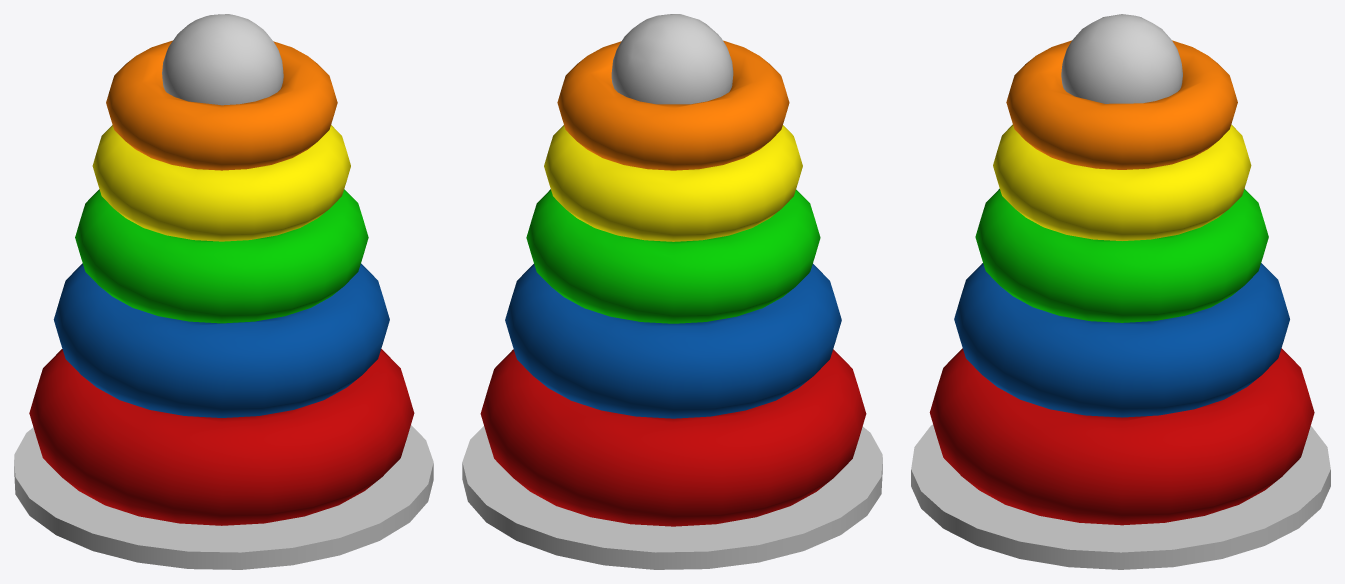
The picture shows the model from 3 angles, left to right: view 1: azimuth 30°, elevation 25°; view 2: azimuth 150°, elevation 25°; view 3: azimuth 270°, elevation 25°; orthographic projection.
Parts seen in each view (by area): view 1: pyramid; view 2: pyramid; view 3: pyramid.
Boxes of the visible parts, x1,y1,x2,y2 form: pyramid: (14,14,433,569); pyramid: (462,14,882,569); pyramid: (911,14,1330,569).
Size of the model in its own units: 14.99 by 18.22 by 15.02.
